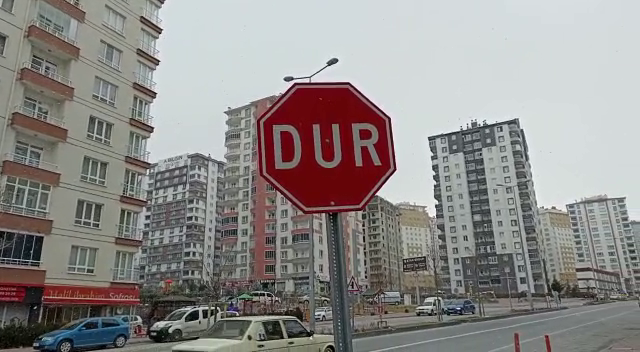stop: (253, 78, 402, 219)
